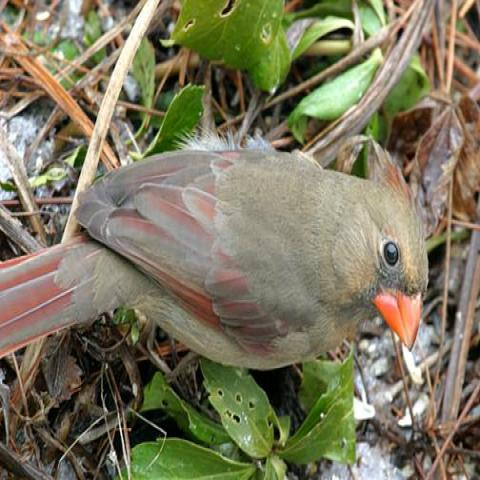bird: (0, 126, 431, 382)
